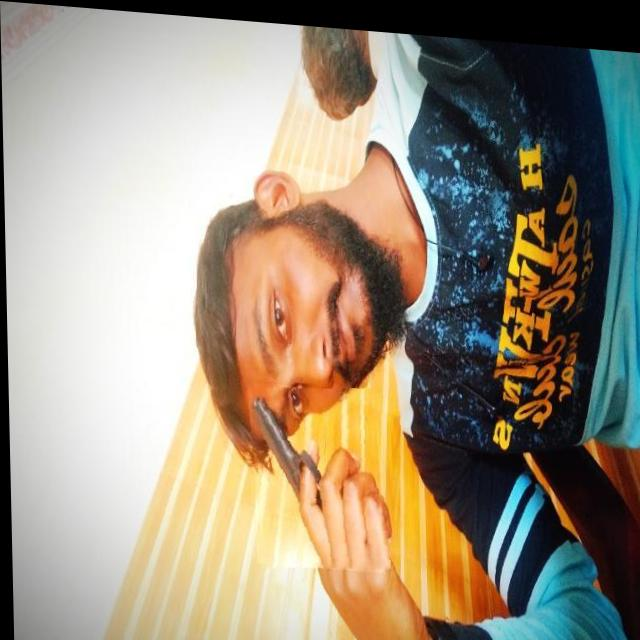handgun: (248, 376, 385, 568)
